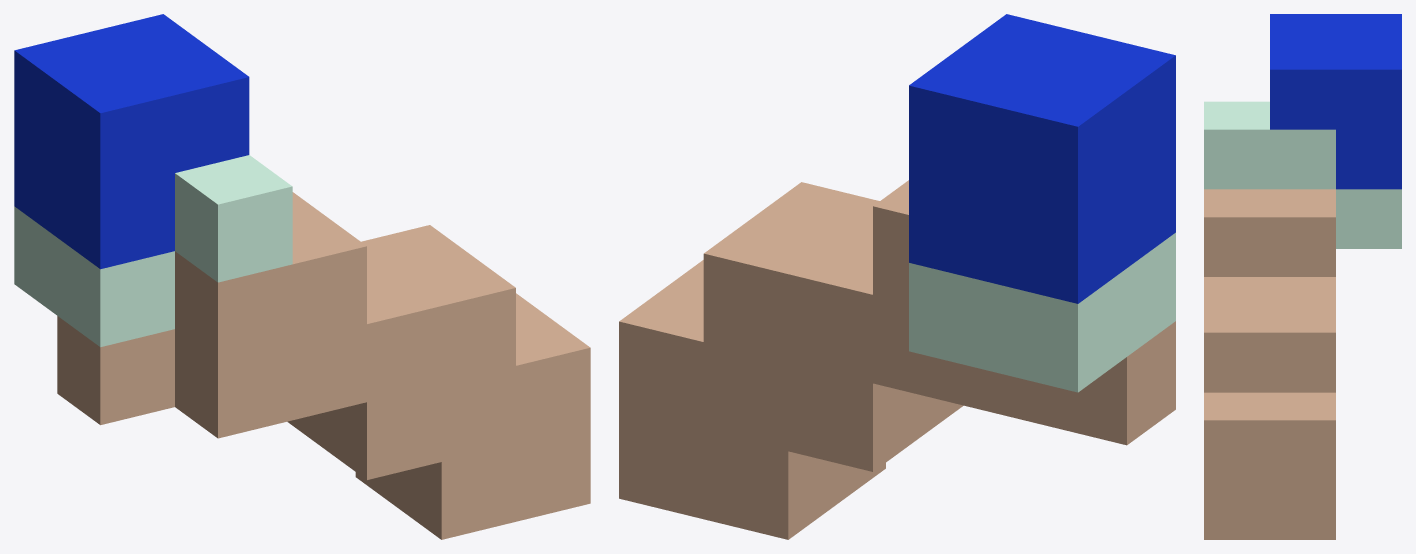
File: Frame-0.obj
3 renders of one model, left to right at view 1: azimuth 30°, elevation 25°; view 2: azimuth 150°, elevation 25°; view 3: azimuth 270°, elevation 25°, orthographic. The views are drawn at different scales.
Size of the model in its own units: 0.6 by 0.6 by 0.3.
Materials: 1 (1 with a texture image).
